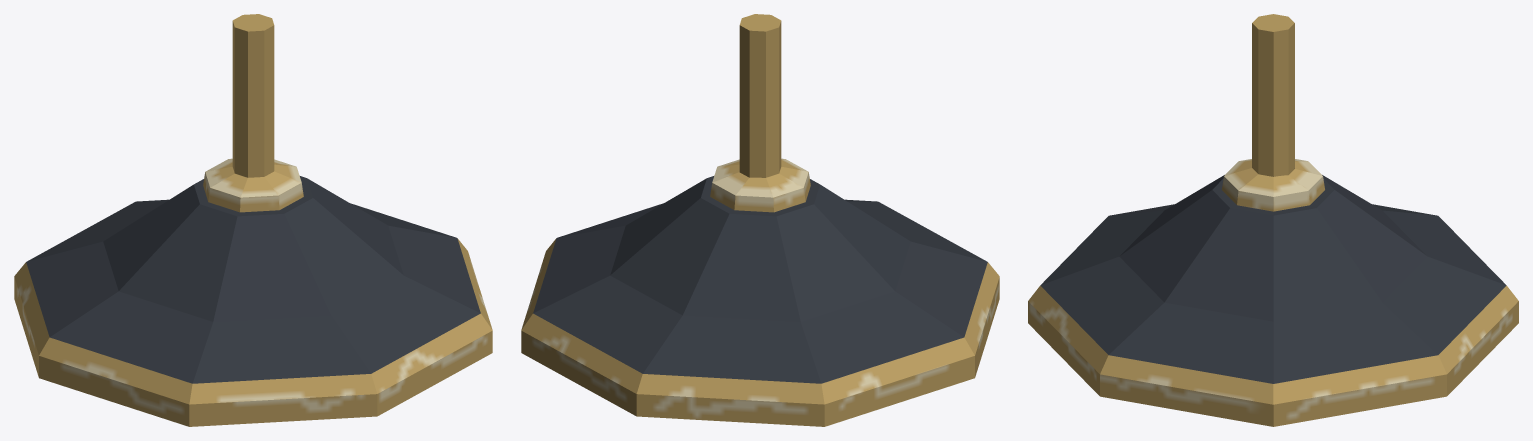
Rendered from Ceiling Light_V2.fbx.
The picture shows the model from 3 angles, left to right: view 1: azimuth 30°, elevation 25°; view 2: azimuth 150°, elevation 25°; view 3: azimuth 270°, elevation 25°; orthographic projection.
Visible parts, largest first — view 1: Ceiling Light_V2; view 2: Ceiling Light_V2; view 3: Ceiling Light_V2.
Boxes of the visible parts, bbox=[...] form: Ceiling Light_V2: bbox=[14, 14, 492, 426]; Ceiling Light_V2: bbox=[521, 14, 999, 426]; Ceiling Light_V2: bbox=[1028, 14, 1518, 426].
Size of the model in its own units: 50.04 by 33.78 by 50.04.
